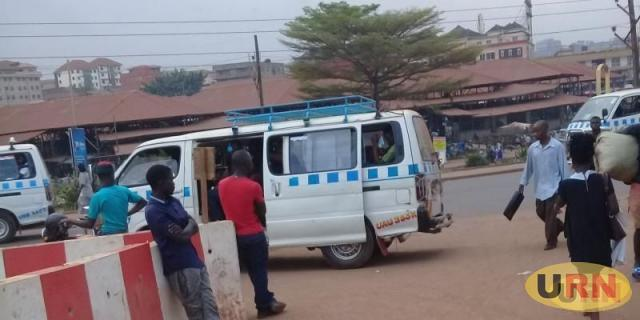van: (267, 95, 453, 267), (0, 138, 50, 236)
